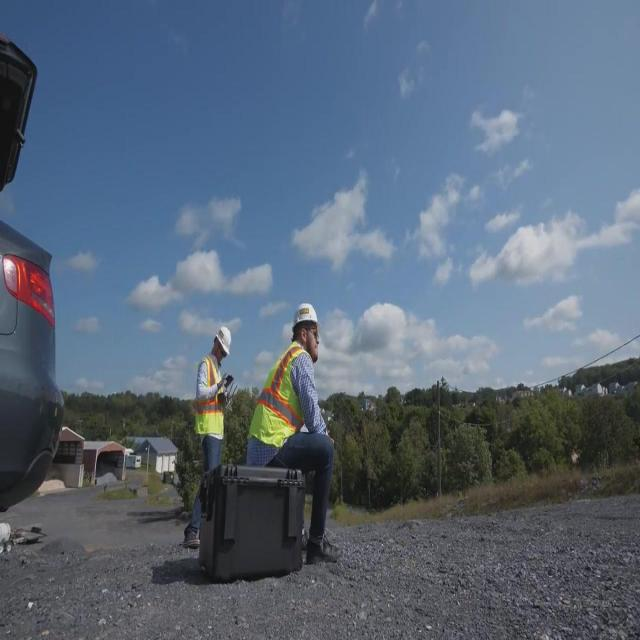Reflective-Jacket: (243, 341, 322, 454), (184, 352, 234, 454)
Safety-Helmet: (286, 291, 326, 344), (207, 316, 237, 364)
